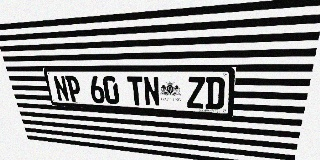0: (102, 76, 120, 104)
6: (88, 76, 106, 103)
D: (205, 77, 225, 110)
N: (143, 76, 160, 106), (52, 75, 70, 102)
P: (65, 76, 83, 102)
T: (127, 76, 144, 106)
Z: (187, 77, 205, 109)
